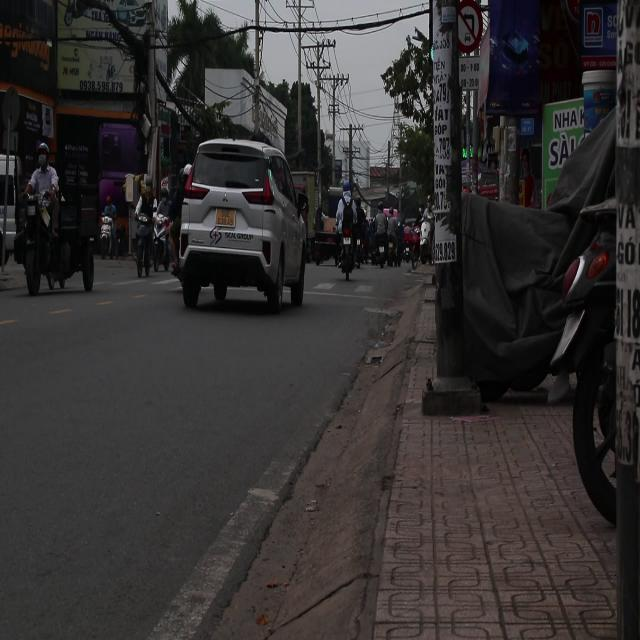car: (178, 139, 310, 311)
motorbike: (131, 208, 156, 284), (338, 201, 360, 285)
